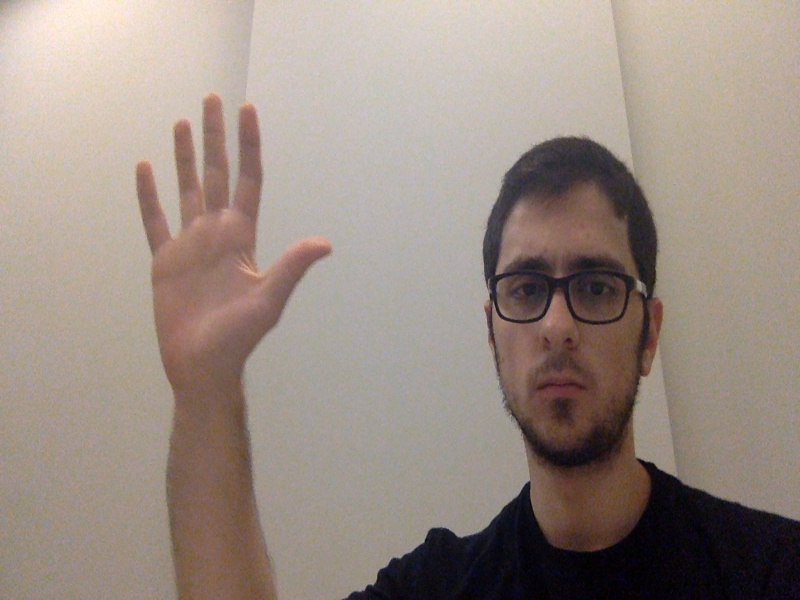5-hand: (109, 90, 335, 398)
